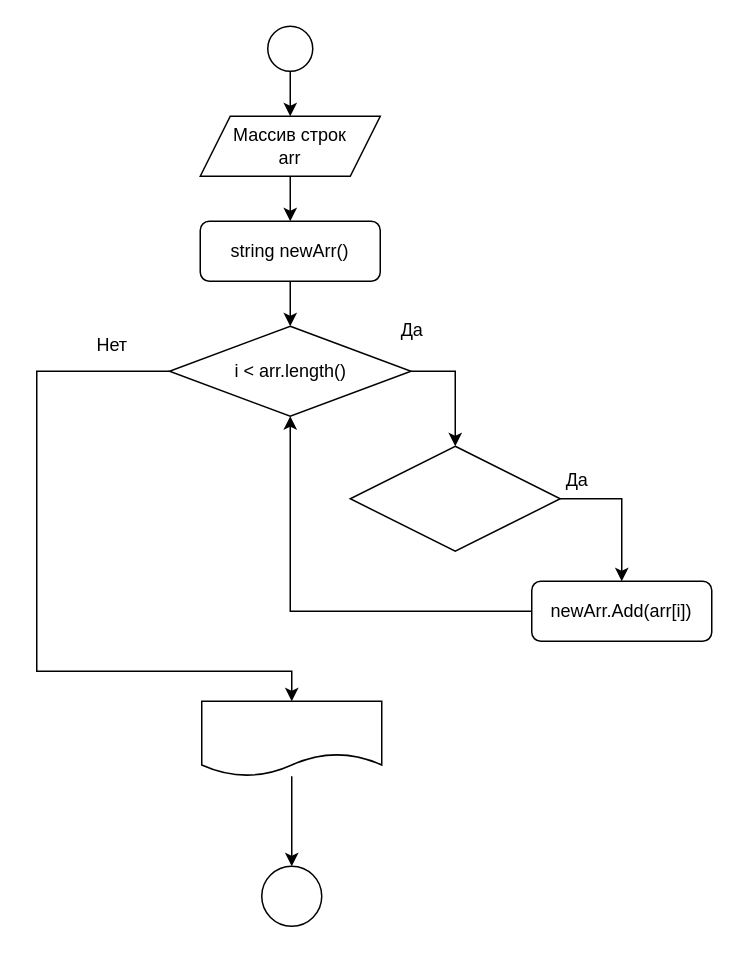
Image size: 738x953. Some labels were removed from this diagram. The centre of each missing label's shape, as x and y in pixels:
"arr[i].length <= 3" goes at [454,498].
"newArr" goes at [291,738].
